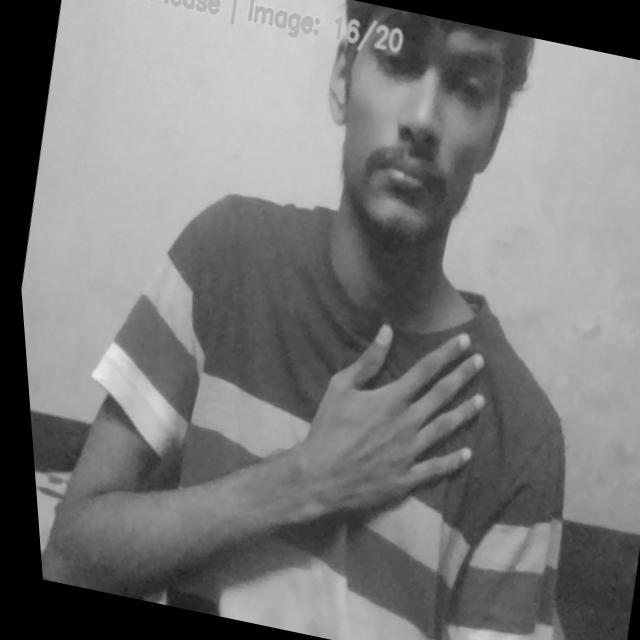Please: (254, 299, 501, 556)
